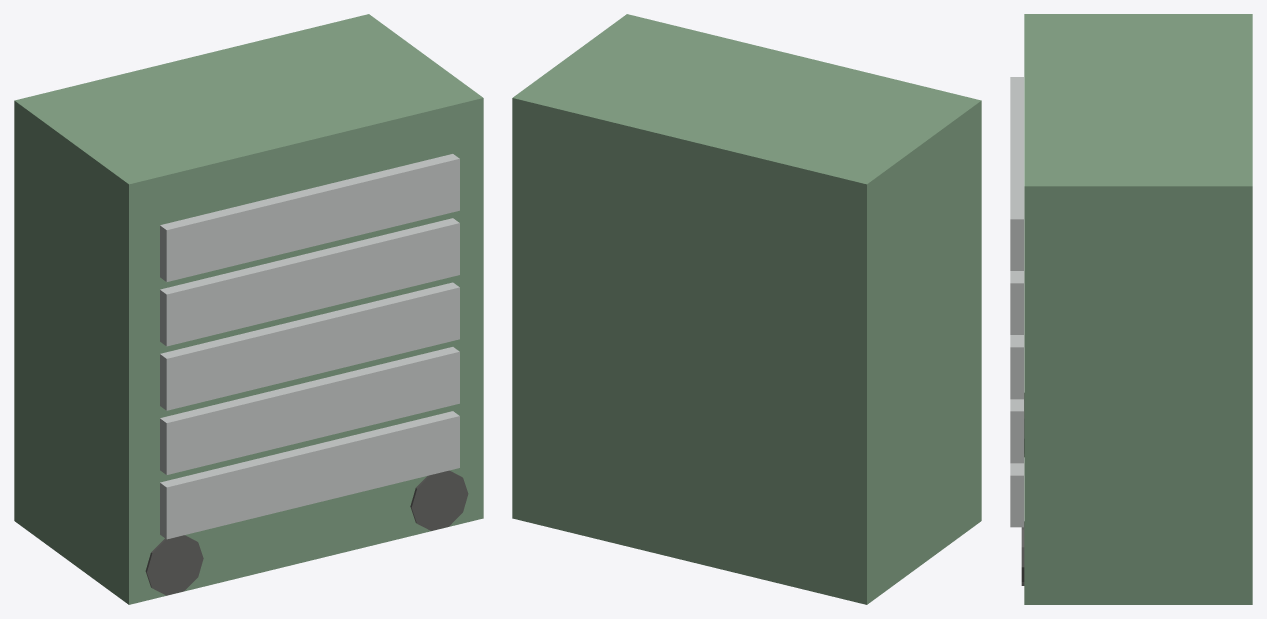
The model's file is tool_chest_03.glb.
3 views of the same model, side by side, from view 1: azimuth 30°, elevation 25°; view 2: azimuth 150°, elevation 25°; view 3: azimuth 270°, elevation 25° (orthographic).
Visible parts, largest first — view 1: chest, drawer2, drawer1, drawer3, drawer0, drawer4, wheel0.28, wheel-0.28; view 2: chest; view 3: chest, drawer4, drawer0, drawer1, drawer2, drawer3.
Boxes of the visible parts, x1,y1,x2,y2 form: chest: (14, 14, 483, 604); drawer2: (160, 282, 459, 410); drawer1: (160, 347, 459, 474); drawer3: (160, 218, 459, 346); drawer0: (160, 411, 459, 539); drawer4: (160, 154, 459, 281); wheel0.28: (410, 470, 468, 530); wheel-0.28: (145, 535, 203, 595); chest: (512, 14, 981, 604); chest: (1024, 14, 1252, 604); drawer4: (1010, 77, 1023, 270); drawer0: (1010, 463, 1023, 527); drawer1: (1010, 399, 1023, 463); drawer2: (1010, 335, 1023, 399); drawer3: (1010, 271, 1023, 334).
Bounding box in the file's own units: 0.75 × 0.85 × 0.4455.
